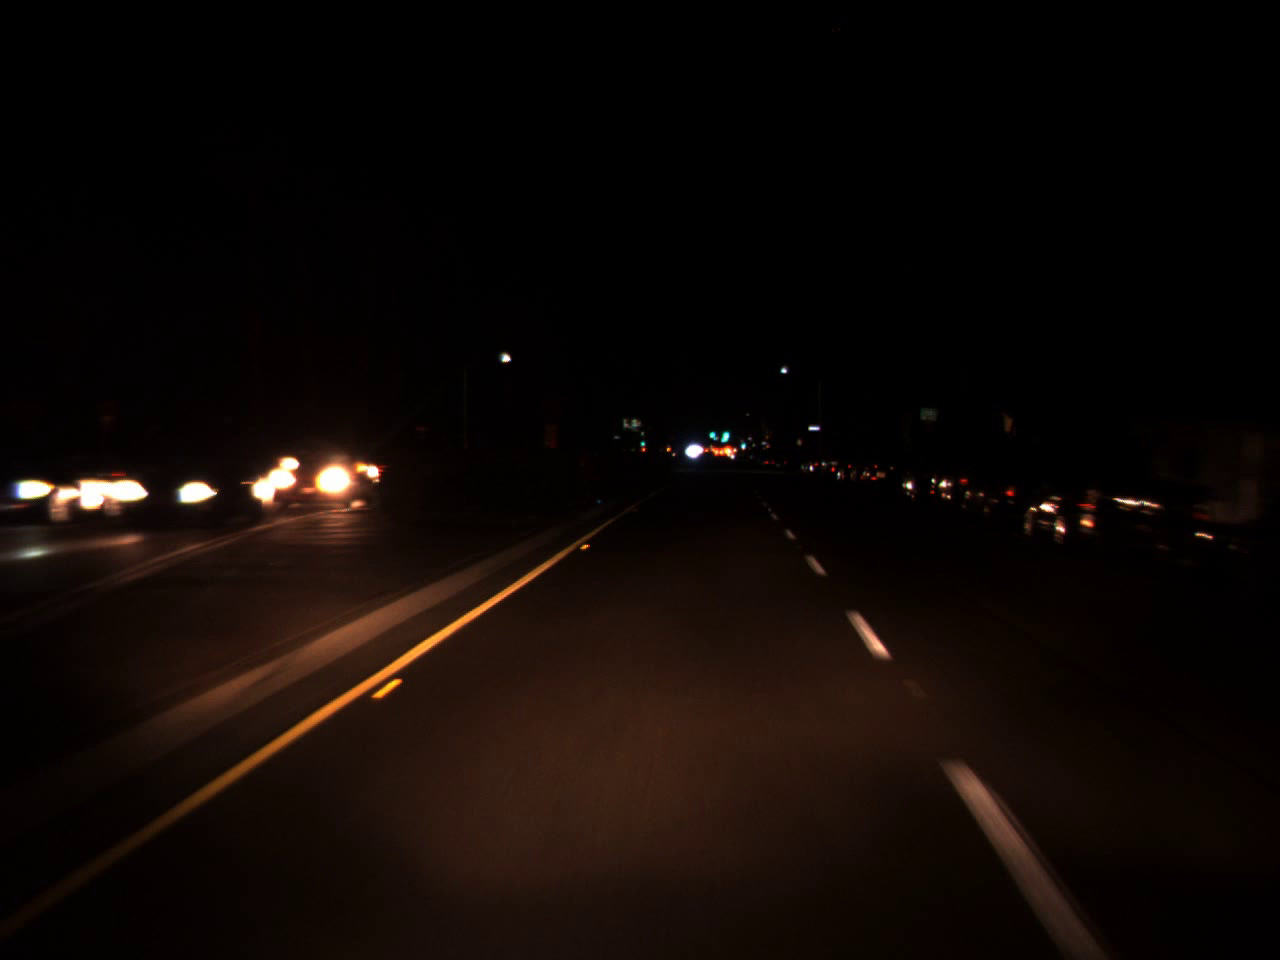go: (719, 419, 731, 443), (705, 419, 717, 441), (737, 433, 747, 451), (637, 435, 646, 447)
